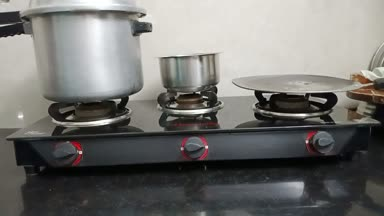flame_gas_off: (259, 93, 338, 157), (49, 100, 117, 168), (162, 89, 219, 162)
